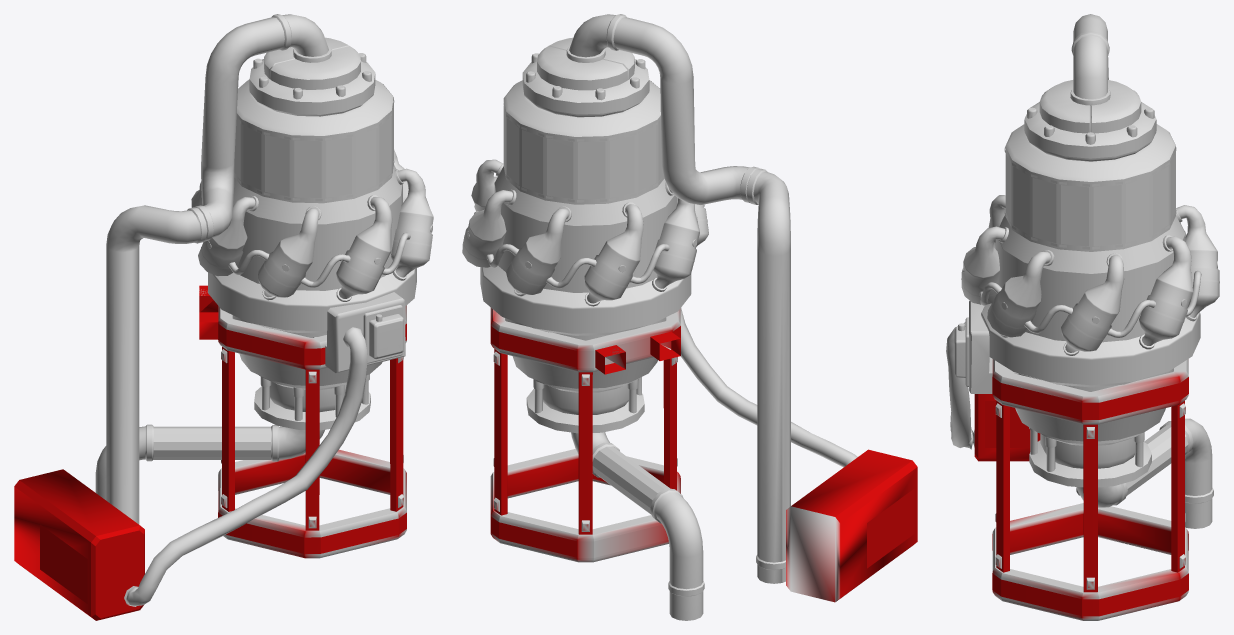
File: PumpStation.fbx
3 views of the same model, side by side, from view 1: azimuth 30°, elevation 25°; view 2: azimuth 150°, elevation 25°; view 3: azimuth 270°, elevation 25° (orthographic). The views are drawn at different scales.
Visible parts, largest first — view 1: GeneratorBiomass_static; view 2: GeneratorBiomass_static; view 3: GeneratorBiomass_static.
Part boxes in pixels (x1,y1,x2,y2): GeneratorBiomass_static: [14, 14, 433, 620]; GeneratorBiomass_static: [462, 14, 917, 620]; GeneratorBiomass_static: [946, 14, 1219, 620].
Bounding box in the file's own units: 438 × 577 × 261.
